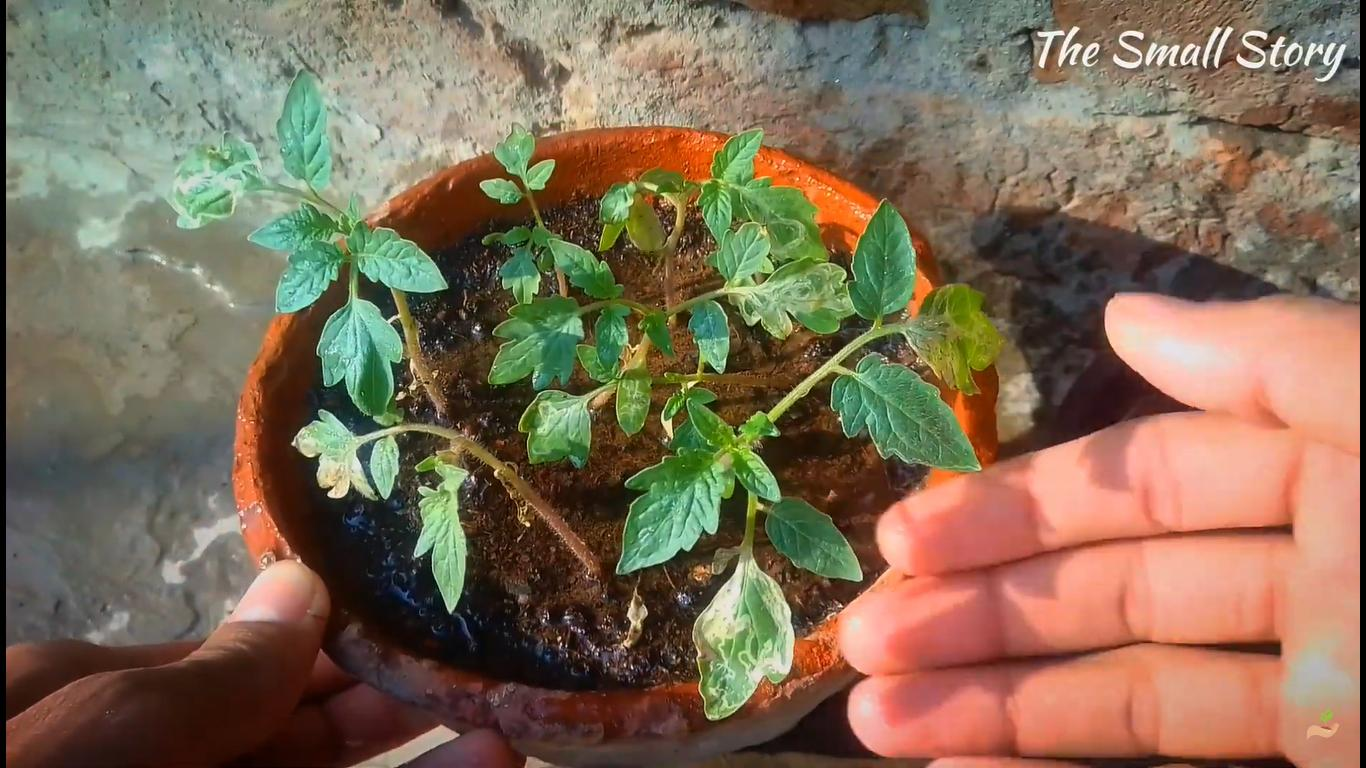Healthy: (832, 350, 987, 480), (616, 443, 721, 582), (487, 292, 586, 390), (847, 190, 917, 322), (766, 494, 869, 583), (345, 216, 452, 295), (275, 65, 330, 185), (545, 234, 627, 302), (271, 240, 342, 315), (245, 200, 338, 255), (712, 125, 764, 185), (695, 182, 733, 251), (595, 307, 629, 376)
Leaf_Miner: (905, 282, 1005, 397), (725, 252, 855, 340), (168, 131, 266, 231), (515, 389, 595, 473), (615, 362, 656, 439)
